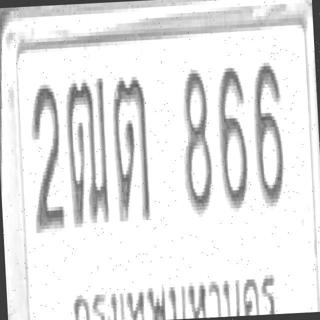A18: (63, 73, 112, 226)
A21: (110, 72, 152, 222)
N02: (27, 79, 66, 232)
N06: (250, 58, 287, 207), (215, 62, 250, 211)
N08: (178, 66, 214, 214)
